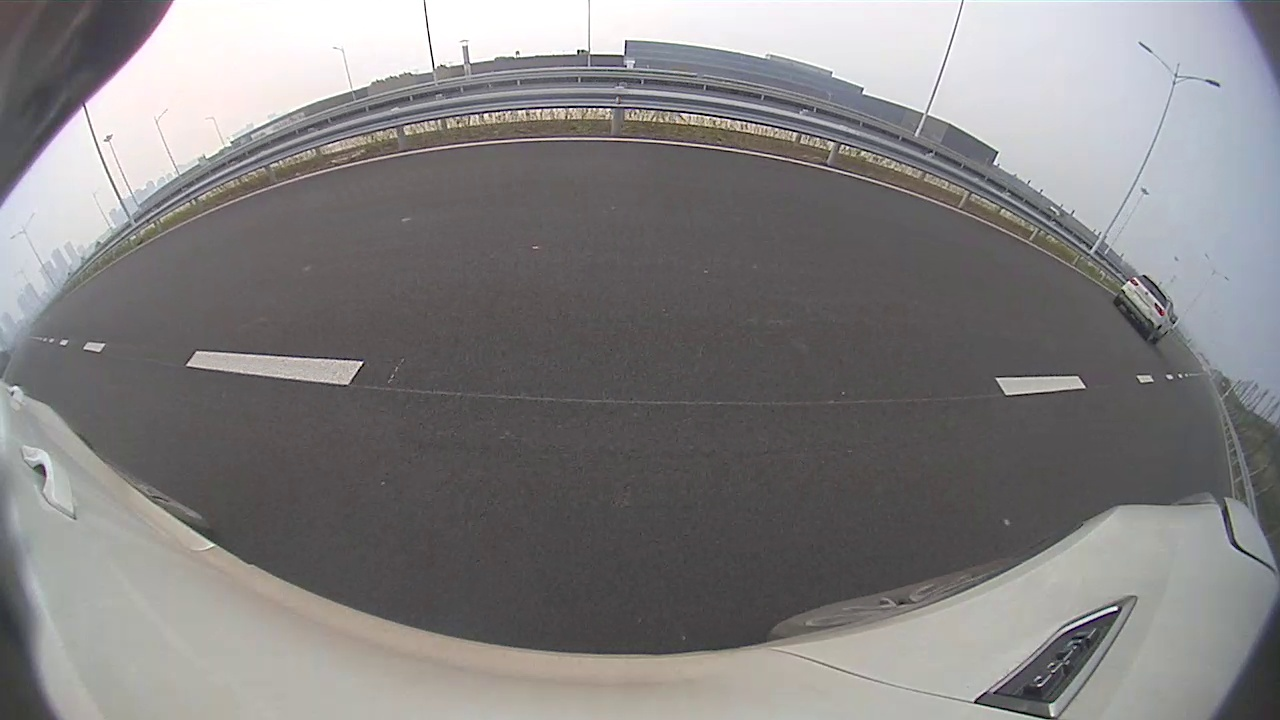car: (685, 153, 734, 189)
rear: (691, 174, 698, 189)
